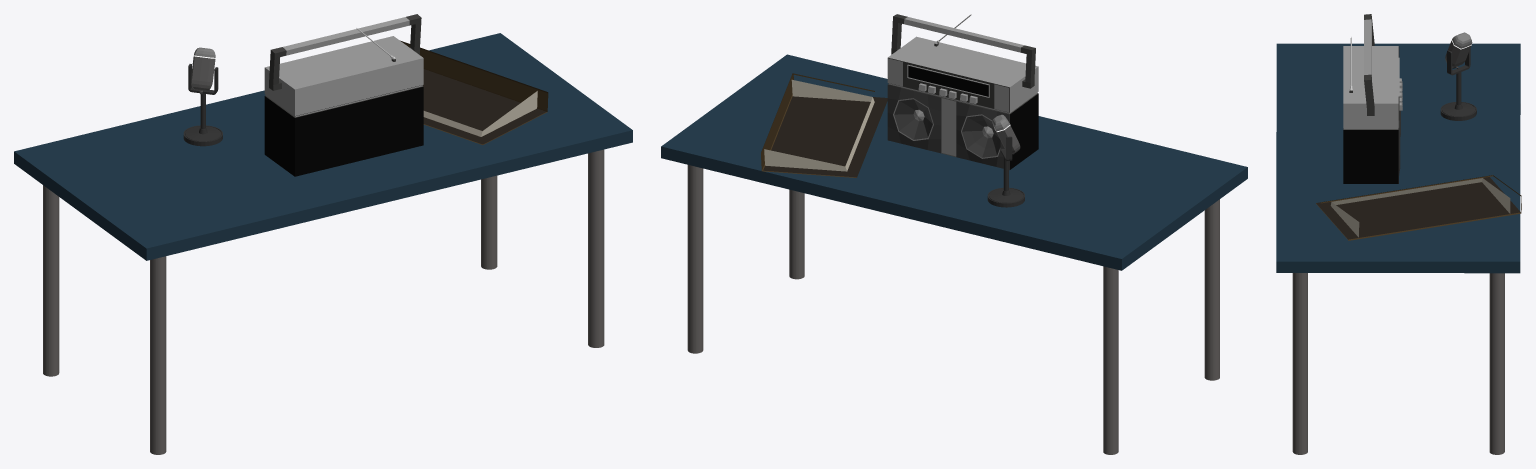
Rendered from 3d_radio_v4.glb.
3 views of the same model, side by side, from view 1: azimuth 30°, elevation 25°; view 2: azimuth 150°, elevation 25°; view 3: azimuth 270°, elevation 25° (orthographic). The views are drawn at different scales.
Parts seen in each view (by area): view 1: Table, Radio, Plane, Microphone; view 2: Table, Radio, Plane, Microphone; view 3: Table, Radio, Plane, Microphone.
Part boxes in pixels (<box>): Table: <box>14,33,632,454</box>; Radio: <box>264,14,423,176</box>; Plane: <box>400,40,548,144</box>; Microphone: <box>183,47,222,146</box>; Table: <box>661,54,1247,454</box>; Radio: <box>887,14,1038,170</box>; Plane: <box>761,73,887,177</box>; Microphone: <box>987,114,1024,207</box>; Table: <box>1276,43,1520,454</box>; Radio: <box>1343,14,1402,183</box>; Plane: <box>1316,175,1521,240</box>; Microphone: <box>1440,32,1476,120</box>.
Size of the model in its own units: 10.41 by 7.12 by 4.95.
